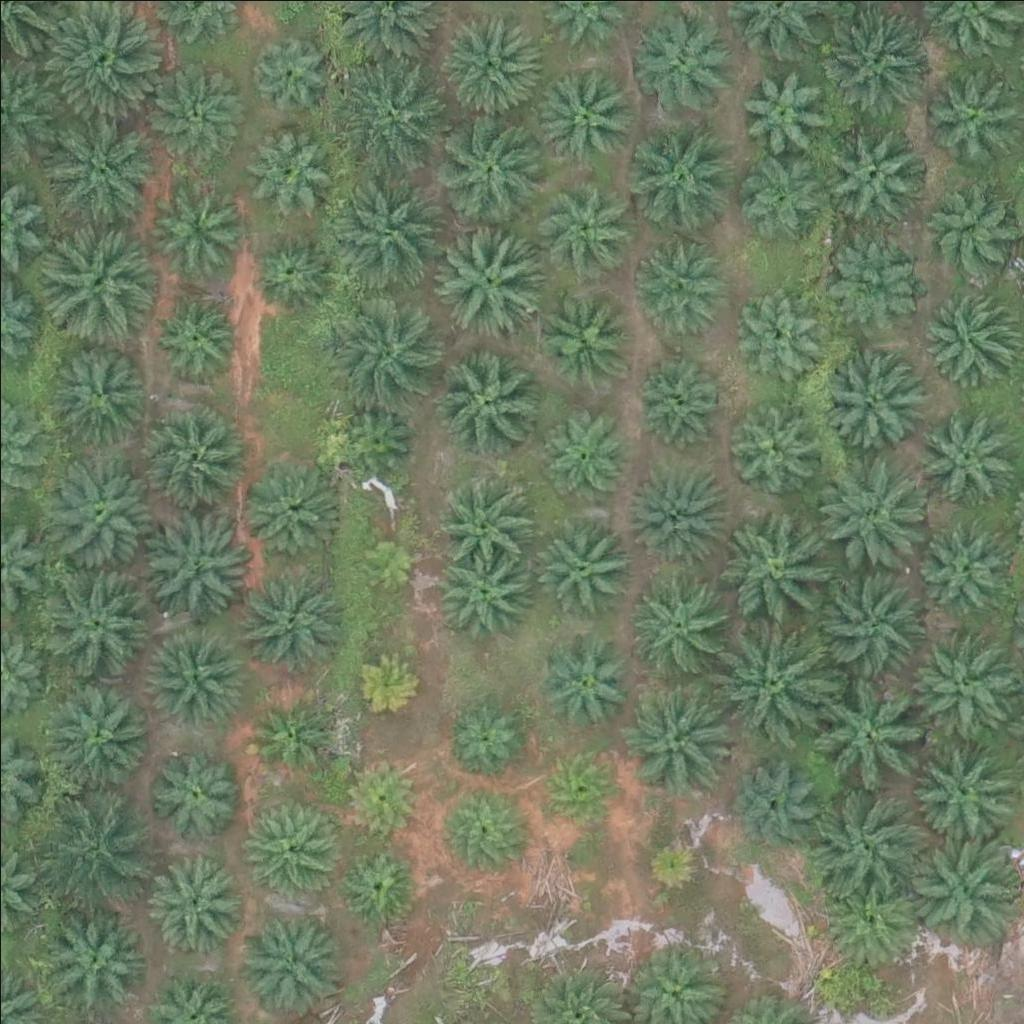Kelapa_Sawit: (40, 450, 153, 564), (233, 566, 346, 680), (326, 173, 439, 287), (429, 345, 542, 459), (37, 569, 150, 682), (40, 232, 153, 345), (135, 501, 248, 614), (436, 218, 549, 331), (814, 566, 927, 679), (39, 905, 152, 1018), (38, 782, 151, 895), (717, 619, 830, 732), (811, 670, 924, 783), (906, 827, 1019, 940), (816, 448, 928, 562), (42, 111, 154, 224), (324, 295, 436, 408), (336, 55, 448, 168), (434, 111, 546, 224), (722, 510, 834, 623), (621, 683, 733, 796), (806, 787, 918, 900), (904, 637, 1016, 750), (47, 343, 147, 444), (147, 626, 247, 727), (134, 403, 234, 504), (233, 462, 333, 563), (433, 542, 533, 643), (539, 629, 639, 730), (532, 513, 632, 614), (532, 289, 632, 390), (530, 172, 630, 273), (534, 61, 634, 162), (626, 573, 726, 674), (629, 240, 729, 341), (630, 121, 730, 222), (633, 12, 733, 113), (721, 400, 821, 501), (821, 345, 921, 446), (817, 116, 917, 217), (916, 403, 1016, 504), (919, 183, 1019, 284), (141, 858, 241, 959), (148, 735, 248, 836), (243, 906, 343, 1007), (244, 798, 344, 899), (819, 869, 919, 970), (911, 735, 1011, 836), (436, 15, 536, 115), (630, 459, 730, 559), (825, 234, 925, 334), (43, 685, 143, 785), (541, 403, 629, 492), (151, 70, 239, 158), (242, 119, 330, 207), (246, 25, 334, 113), (328, 390, 416, 478), (436, 475, 524, 563), (636, 360, 724, 448), (437, 787, 525, 875), (437, 695, 525, 783), (339, 755, 427, 843), (331, 844, 419, 932), (724, 762, 812, 850), (151, 288, 238, 377), (147, 174, 234, 262), (248, 222, 335, 310), (736, 292, 823, 380), (736, 151, 823, 239), (739, 63, 826, 151), (917, 521, 1004, 609), (928, 68, 1015, 156), (537, 745, 624, 833), (247, 695, 334, 783), (347, 645, 422, 721), (644, 829, 707, 892), (355, 529, 417, 592)
